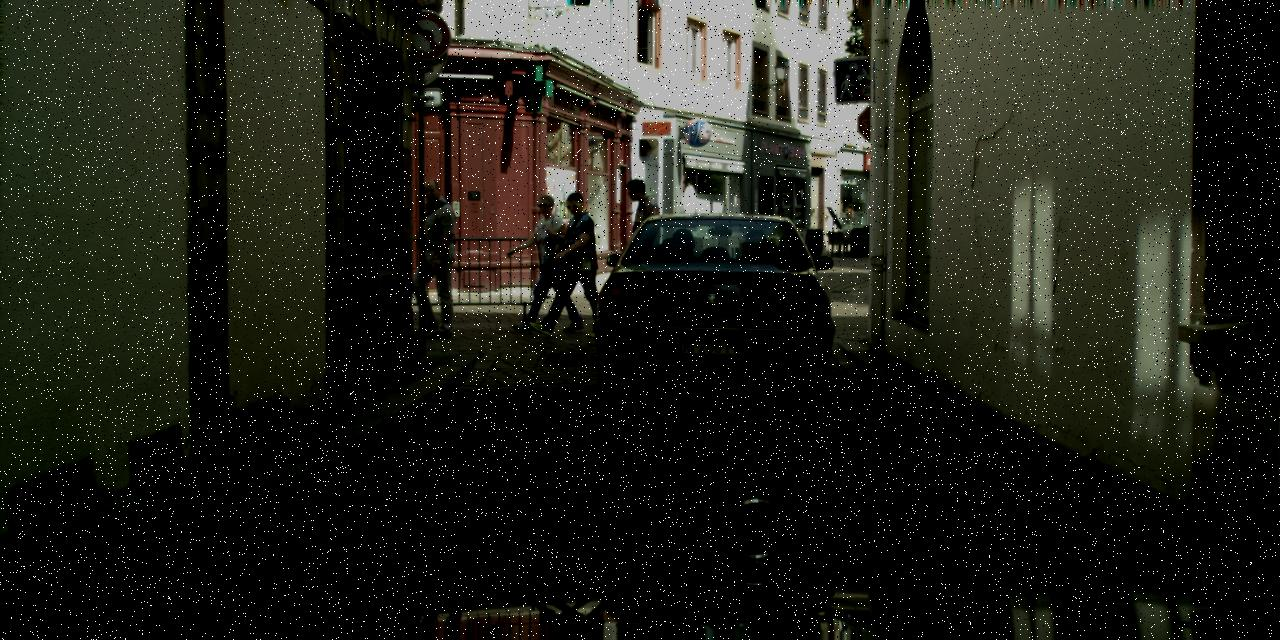ped: (400, 179, 464, 336), (544, 191, 602, 336), (608, 178, 664, 316), (521, 194, 577, 332)
